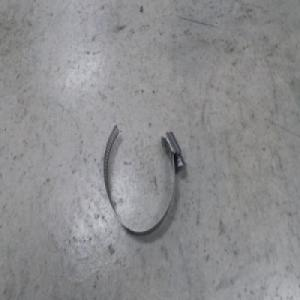AdjustableClamp: (105, 123, 186, 236)
